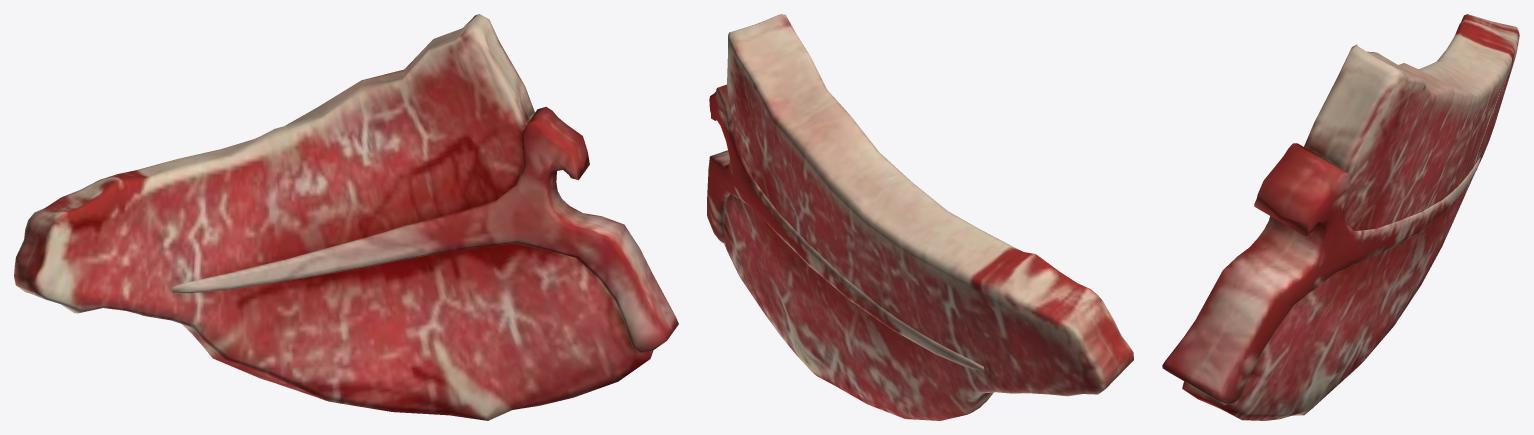
Rendered from meat_steak_lod1.glb.
3 renders of one model, left to right at view 1: azimuth 30°, elevation 25°; view 2: azimuth 150°, elevation 25°; view 3: azimuth 270°, elevation 25°, orthographic. The views are drawn at different scales.
Parts seen in each view (by area): view 1: meat_steak; view 2: meat_steak; view 3: meat_steak.
Boxes of the visible parts, x1,y1,x2,y2 form: meat_steak: (14,14,678,420); meat_steak: (707,14,1133,420); meat_steak: (1162,14,1519,420).
Bounding box in the file's own units: 0.24 × 0.1598 × 0.1385.
Materials: 1 (1 with a texture image).
